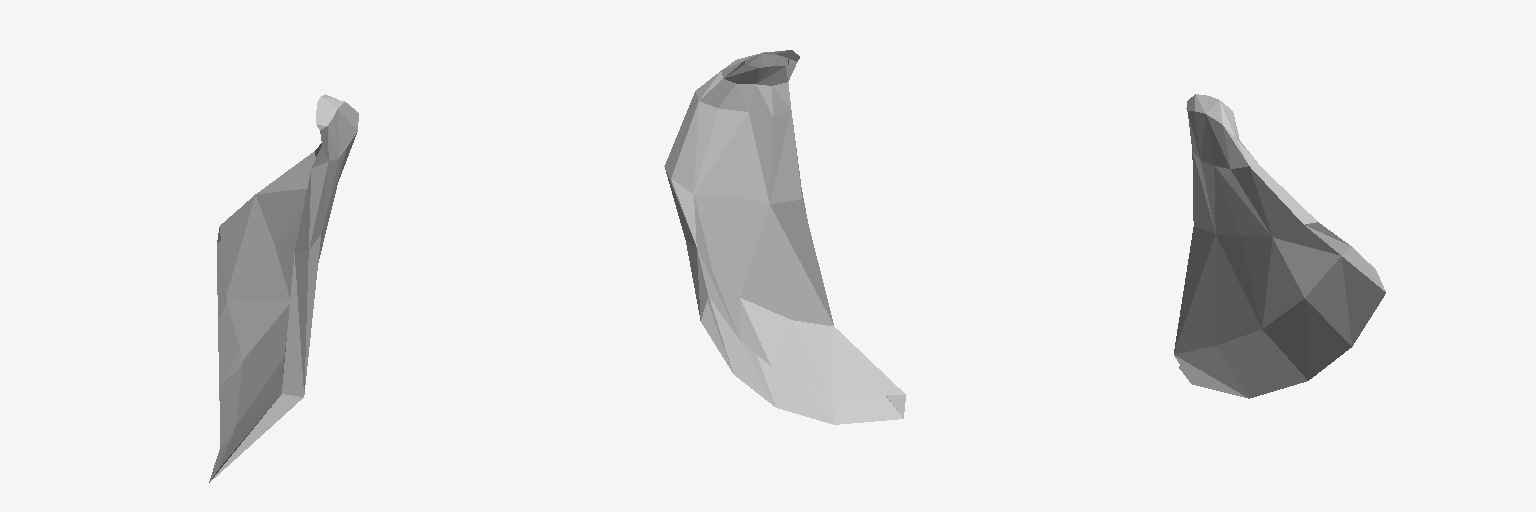
File: Depressor_Anguli_Oris_Muscle_Left.obj
3 renders of one model, left to right at view 1: azimuth 30°, elevation 25°; view 2: azimuth 150°, elevation 25°; view 3: azimuth 270°, elevation 25°, orthographic.
Visible parts, largest first — view 1: Depressor_Anguli_Oris_Muscle_Left1_Mesh group1; view 2: Depressor_Anguli_Oris_Muscle_Left1_Mesh group1; view 3: Depressor_Anguli_Oris_Muscle_Left1_Mesh group1.
Boxes of the visible parts, <box> form: Depressor_Anguli_Oris_Muscle_Left1_Mesh group1: <box>209,94,358,482</box>; Depressor_Anguli_Oris_Muscle_Left1_Mesh group1: <box>664,50,905,424</box>; Depressor_Anguli_Oris_Muscle_Left1_Mesh group1: <box>1174,94,1385,398</box>.
Size of the model in its own units: 0.3023 by 0.5456 by 0.3042.